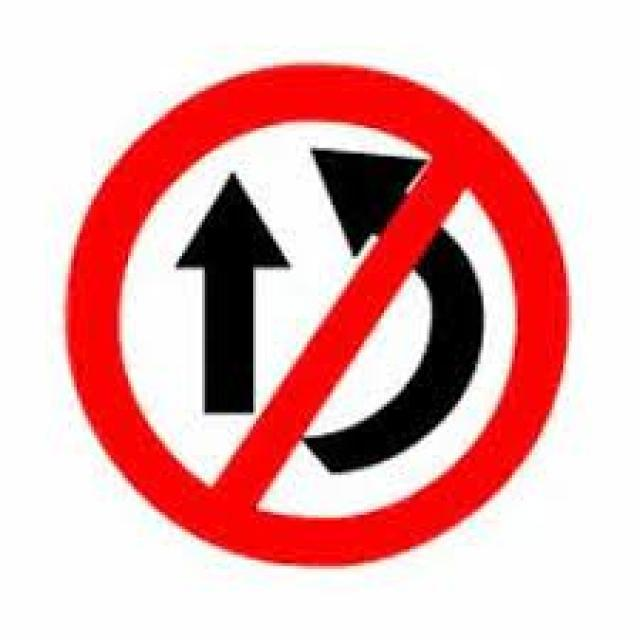overtaking prohibited: (56, 40, 582, 585)
